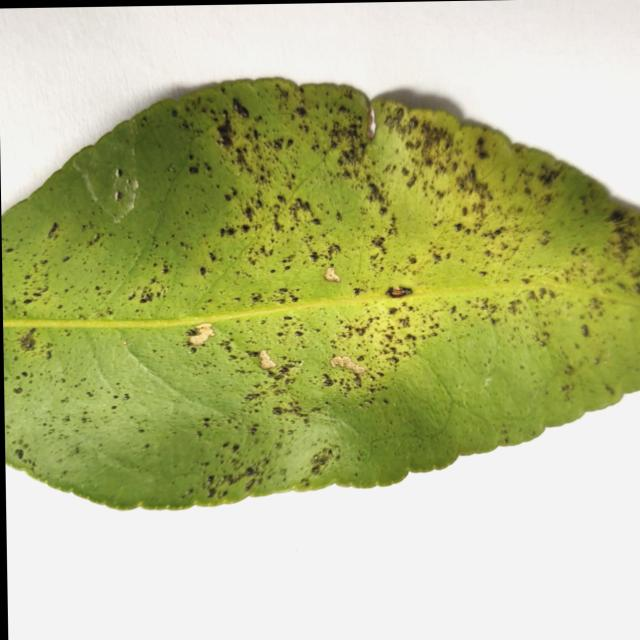melanose: (0, 78, 640, 508)
